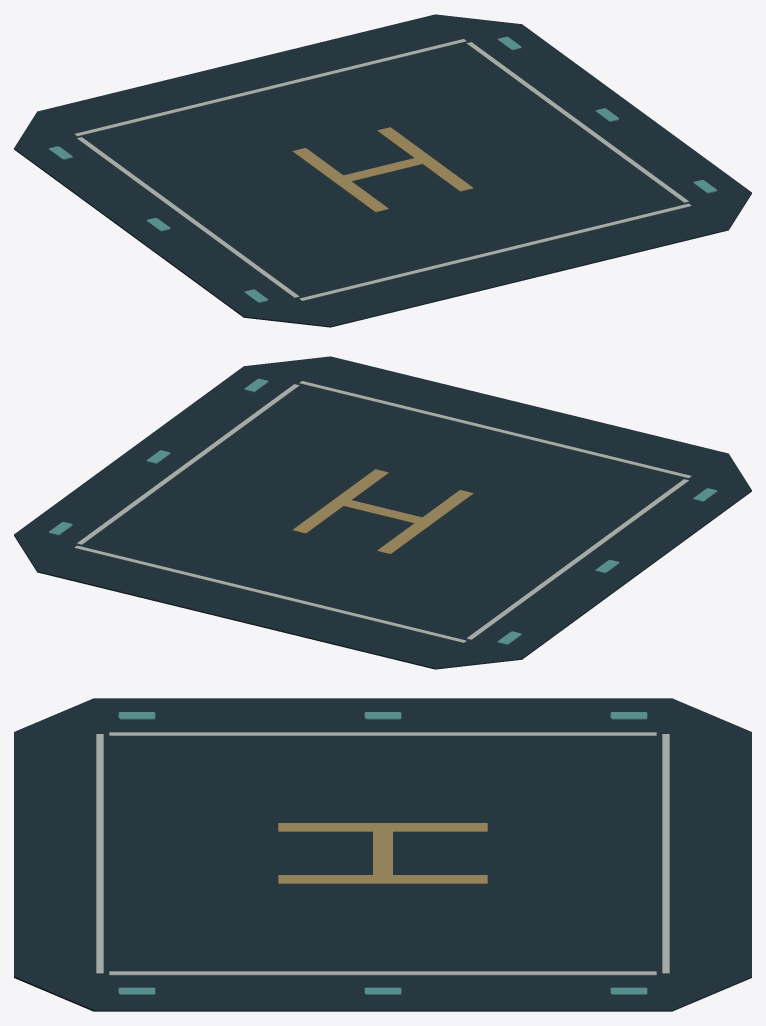
File: landing_pad.glb
3 renders of one model, top to bottom at view 1: azimuth 30°, elevation 25°; view 2: azimuth 150°, elevation 25°; view 3: azimuth 270°, elevation 25°, orthographic. The views are drawn at different scales.
Parts seen in each view (by area): view 1: landing_pad; view 2: landing_pad; view 3: landing_pad.
Boxes of the visible parts, bbox=[...] form: landing_pad: bbox=[14, 14, 751, 327]; landing_pad: bbox=[14, 356, 751, 669]; landing_pad: bbox=[14, 698, 751, 1011].
Size of the model in its own units: 12 by 0.05 by 12.
